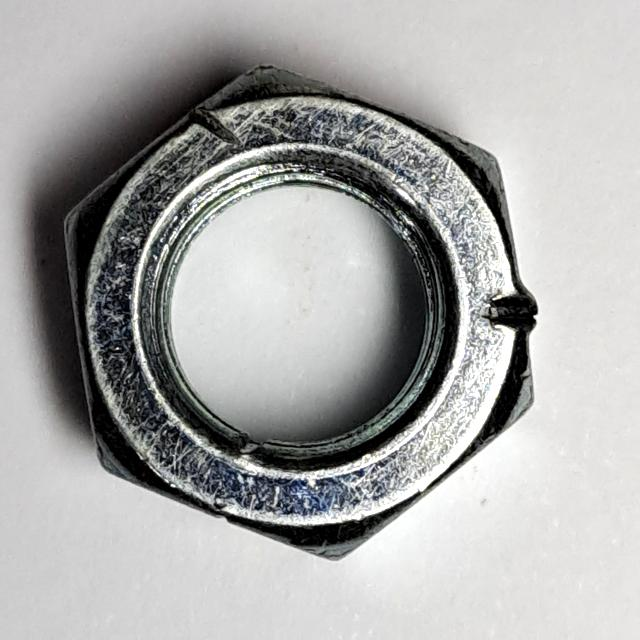Scratches: (43, 55, 546, 576)
